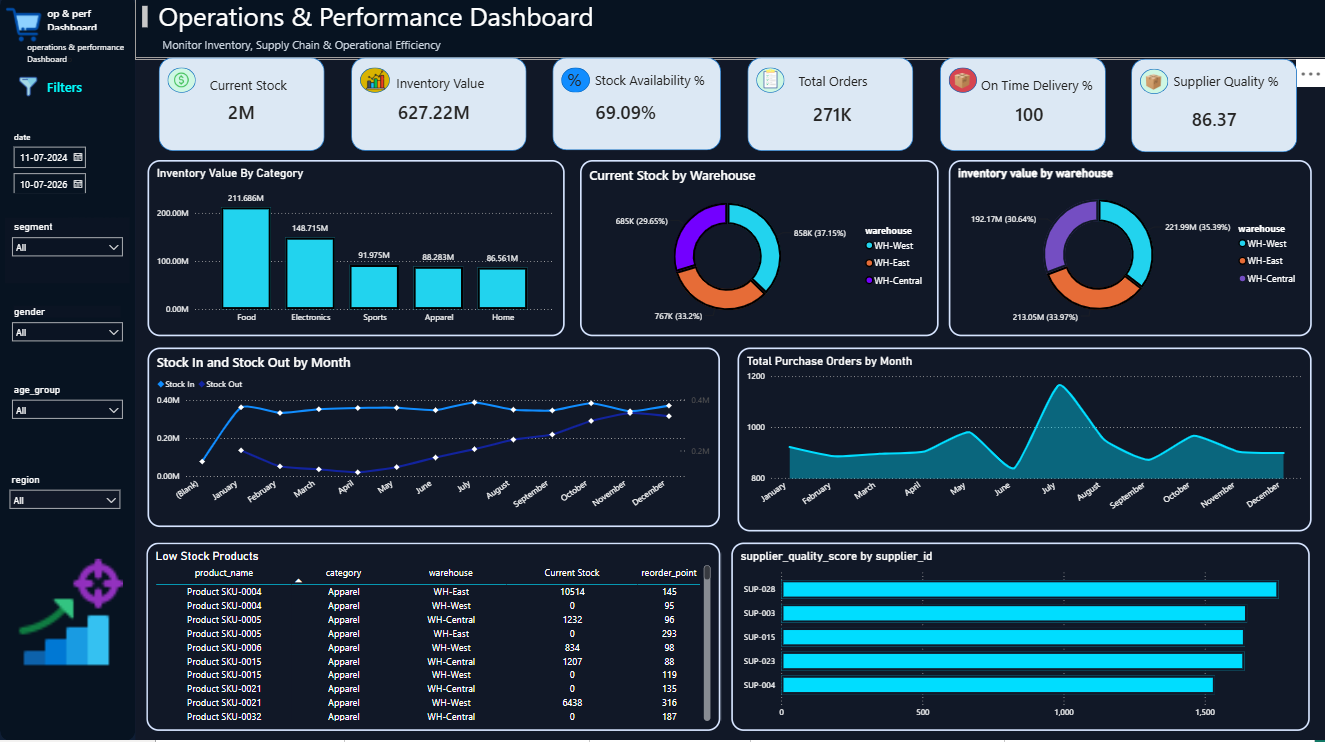

The dashboard page shown, as its layout file describes it:
{"tool":"powerbi","page":{"name":"Operations & Performance Dashboard","canvas":[1920,1080],"ordinal":4},"visuals":[{"type":"shape","box":[0,0,196,1080],"z":0},{"type":"shape","box":[229.4,90,240,135.3],"z":0,"group":"g2"},{"type":"shape","box":[1081.8,90,240,135.3],"z":0,"group":"g5"},{"type":"shape","box":[1360,90,240,135.3],"z":0,"group":"g6"},{"type":"shape","box":[508.6,90.9,253.8,135],"z":0,"group":"g3"},{"type":"shape","box":[800.7,90.9,243.8,134.2],"z":0,"group":"g4"},{"type":"shape","box":[1638.3,93.1,240,135.3],"z":0,"group":"g7"},{"type":"group","id":"g1","title":"Group 2","box":[195,0,1725,94],"z":1000},{"type":"shape","box":[195,0,1725,90],"z":1000,"group":"g1"},{"type":"actionButton","box":[1,11.2,65,65.8],"z":2000},{"type":"textbox","box":[64,11,155,45],"z":3000},{"type":"textbox","box":[34,59,162,56],"z":4000},{"type":"textbox","box":[46,115,104,45],"z":5000},{"type":"textbox","box":[223.8,0,672.5,65],"z":6000,"group":"g1"},{"type":"image","box":[0,109,81,48],"z":6000},{"type":"textbox","box":[230,56,420,38],"z":7000,"group":"g1"},{"type":"slicer","fields":{"Values":["dim_customers.age_group"]},"box":[7.5,557.5,180,96.2],"z":7000},{"type":"slicer","fields":{"Values":["dim_customers.segment"]},"box":[7.5,322.5,180,95],"z":8000},{"type":"shape","box":[241.7,104.2,40.9,36.6],"z":9000,"group":"g2"},{"type":"shape","box":[1094.1,104.2,40.9,36.6],"z":9000,"group":"g5"},{"type":"shape","box":[1372.3,104.2,40.9,36.6],"z":9000,"group":"g6"},{"type":"shape","box":[521.6,105,43.3,36.5],"z":9000,"group":"g3"},{"type":"shape","box":[813.2,105,41.6,36.3],"z":9000,"group":"g4"},{"type":"shape","box":[1650.6,107.3,40.9,36.6],"z":9000,"group":"g7"},{"type":"slicer","fields":{"Values":["dim_customers.gender"]},"box":[7.5,445,180,95],"z":9000},{"type":"image","box":[1095.7,104.7,37,33],"z":10000,"group":"g5"},{"type":"image","box":[249.9,108.6,25.5,28.6],"z":10000,"group":"g2"},{"type":"image","box":[1380.5,108.6,25.5,28.6],"z":10000,"group":"g6"},{"type":"image","box":[530.3,109.5,26.9,28.5],"z":10000,"group":"g3"},{"type":"image","box":[1658.8,111.7,25.5,28.6],"z":10000,"group":"g7"},{"type":"slicer","fields":{"Values":["dim_customers.region"]},"box":[3.8,687.5,180,95],"z":10000},{"type":"textbox","box":[1150.5,106.8,142.7,42],"z":11000,"group":"g5"},{"type":"textbox","box":[1694,108.1,177.5,43.3],"z":11000,"group":"g7"},{"type":"textbox","box":[574.4,110.6,158,39],"z":11000,"group":"g3"},{"type":"textbox","box":[861.9,110.6,184,43.3],"z":11000,"group":"g4"},{"type":"textbox","box":[297.8,111.6,142.8,45.4],"z":11000,"group":"g2"},{"type":"textbox","box":[1414,111.6,179.6,36.8],"z":11000,"group":"g6"},{"type":"slicer","fields":{"Values":["dim_date.date"]},"box":[7.5,191.2,180,95],"z":11000},{"type":"group","id":"g2","title":"Group 1","box":[229.4,90,240,135.3],"z":12000},{"type":"cardVisual","fields":{"Data":["Measures (2).Inventory Value"]},"box":[559.3,132.2,141.2,71.2],"z":12000,"group":"g3"},{"type":"cardVisual","fields":{"Data":["Measures (2).Stock Availability %"]},"box":[846.7,132.2,151.5,71.4],"z":12000,"group":"g4"},{"type":"cardVisual","fields":{"Data":["Measures (2).Total Orders"]},"box":[1160.1,133.3,145,73.6],"z":12000,"group":"g5"},{"type":"cardVisual","fields":{"Data":["Measures (2).On Time Delivery %"]},"box":[1453,133.3,125.5,73.6],"z":12000,"group":"g6"},{"type":"cardVisual","fields":{"Data":["Measures (2).Current Stock"]},"box":[311.9,133.8,80,67.5],"z":12000,"group":"g2"},{"type":"group","id":"g3","title":"Group 1","box":[508.6,90.9,253.8,135],"z":13000},{"type":"group","id":"g4","title":"Group 1","box":[800.7,90.9,245.1,134.2],"z":14000},{"type":"group","id":"g5","title":"Group 1","box":[1081.8,90,240,135.3],"z":15000},{"type":"textbox","box":[822,106.8,64,110.1],"z":15008,"group":"g4"},{"type":"group","id":"g6","title":"Group 1","box":[1360,90,240,135.3],"z":16000},{"type":"group","id":"g7","title":"Group 1","box":[1638.3,93.1,240,135.3],"z":17000},{"type":"cardVisual","fields":{"Data":["Measures (2).Average Supplier Quality"]},"box":[1707.5,147.2,121.2,60.6],"z":18000},{"type":"clusteredColumnChart","title":"Inventory Value By Category","fields":{"Category":["dim_products.category"],"Y":["Measures (2).Inventory Value"]},"box":[214.3,238.1,603.8,255.4],"z":19000},{"type":"donutChart","title":"Current Stock by Warehouse","fields":{"Category":["dim_products.warehouse"],"Y":["Measures (2).Current Stock"]},"box":[839.7,238.1,519.4,255.4],"z":20000},{"type":"donutChart","title":"inventory value by warehouse","fields":{"Category":["dim_products.warehouse"],"Y":["Measures (2).Inventory Value"]},"box":[1374.2,238.1,525.9,255.4],"z":21000},{"type":"lineChart","fields":{"Category":["dim_date.date.Variation.Date Hierarchy.Year","dim_date.date.Variation.Date Hierarchy.Month"],"Y":["Measures (2).Stock In"],"Y2":["Measures (2).Stock Out"]},"box":[214.3,510.7,828.9,259.7],"z":22000},{"type":"areaChart","fields":{"Category":["dim_date.date.Variation.Date Hierarchy.Month"],"Y":["Measures (2).Total Purchase Orders"]},"box":[1066.9,510.7,831,266.2],"z":23000},{"type":"tableEx","title":"Low Stock Products","fields":{"Values":["dim_products.product_name","dim_products.category","dim_products.warehouse","Measures (2).Current Stock","Sum(fact_inventory.reorder_point)"]},"box":[212.1,792.1,831,272.7],"z":24000},{"type":"barChart","fields":{"Category":["dim_products.supplier_id"],"Y":["Sum(dim_products.supplier_quality_score)"]},"box":[1058.3,792.1,837.5,272.7],"z":25000},{"type":"image","box":[10,816,170,164],"z":25001}]}

Visuals, with their boxes on the page's 1920x1080 design canvas (x1, y1, x2, y2). These are canvas units, not pixel positions in the 1325x742 screenshot, which may show the page scaled, cropped or inside an application window:
shape: bbox=(0, 0, 196, 1080)
shape: bbox=(229, 90, 469, 225)
shape: bbox=(1082, 90, 1322, 225)
shape: bbox=(1360, 90, 1600, 225)
shape: bbox=(509, 91, 762, 226)
shape: bbox=(801, 91, 1044, 225)
shape: bbox=(1638, 93, 1878, 228)
"Group 2" group: bbox=(195, 0, 1920, 94)
shape: bbox=(195, 0, 1920, 90)
actionButton: bbox=(1, 11, 66, 77)
textbox: bbox=(64, 11, 219, 56)
textbox: bbox=(34, 59, 196, 115)
textbox: bbox=(46, 115, 150, 160)
textbox: bbox=(224, 0, 896, 65)
image: bbox=(0, 109, 81, 157)
textbox: bbox=(230, 56, 650, 94)
slicer - dim_customers.age_group: bbox=(8, 558, 188, 654)
slicer - dim_customers.segment: bbox=(8, 322, 188, 418)
shape: bbox=(242, 104, 283, 141)
shape: bbox=(1094, 104, 1135, 141)
shape: bbox=(1372, 104, 1413, 141)
shape: bbox=(522, 105, 565, 142)
shape: bbox=(813, 105, 855, 141)
shape: bbox=(1651, 107, 1692, 144)
slicer - dim_customers.gender: bbox=(8, 445, 188, 540)
image: bbox=(1096, 105, 1133, 138)
image: bbox=(250, 109, 275, 137)
image: bbox=(1380, 109, 1406, 137)
image: bbox=(530, 110, 557, 138)
image: bbox=(1659, 112, 1684, 140)
slicer - dim_customers.region: bbox=(4, 688, 184, 782)
textbox: bbox=(1150, 107, 1293, 149)
textbox: bbox=(1694, 108, 1872, 151)
textbox: bbox=(574, 111, 732, 150)
textbox: bbox=(862, 111, 1046, 154)
textbox: bbox=(298, 112, 441, 157)
textbox: bbox=(1414, 112, 1594, 148)
slicer - dim_date.date: bbox=(8, 191, 188, 286)
"Group 1" group: bbox=(229, 90, 469, 225)
cardVisual - Measures (2).Inventory Value: bbox=(559, 132, 700, 203)
cardVisual - Measures (2).Stock Availability %: bbox=(847, 132, 998, 204)
cardVisual - Measures (2).Total Orders: bbox=(1160, 133, 1305, 207)
cardVisual - Measures (2).On Time Delivery %: bbox=(1453, 133, 1578, 207)
cardVisual - Measures (2).Current Stock: bbox=(312, 134, 392, 201)
"Group 1" group: bbox=(509, 91, 762, 226)
"Group 1" group: bbox=(801, 91, 1046, 225)
"Group 1" group: bbox=(1082, 90, 1322, 225)
textbox: bbox=(822, 107, 886, 217)
"Group 1" group: bbox=(1360, 90, 1600, 225)
"Group 1" group: bbox=(1638, 93, 1878, 228)
cardVisual - Measures (2).Average Supplier Quality: bbox=(1708, 147, 1829, 208)
"Inventory Value By Category" clusteredColumnChart: bbox=(214, 238, 818, 494)
"Current Stock by Warehouse" donutChart: bbox=(840, 238, 1359, 494)
"inventory value by warehouse" donutChart: bbox=(1374, 238, 1900, 494)
lineChart - dim_date.date.Variation.Date Hierarchy.Year x dim_date.date.Variation.Date Hierarchy.Month: bbox=(214, 511, 1043, 770)
areaChart - dim_date.date.Variation.Date Hierarchy.Month x Measures (2).Total Purchase Orders: bbox=(1067, 511, 1898, 777)
"Low Stock Products" tableEx: bbox=(212, 792, 1043, 1065)
barChart - dim_products.supplier_id x Sum(dim_products.supplier_quality_score): bbox=(1058, 792, 1896, 1065)
image: bbox=(10, 816, 180, 980)
